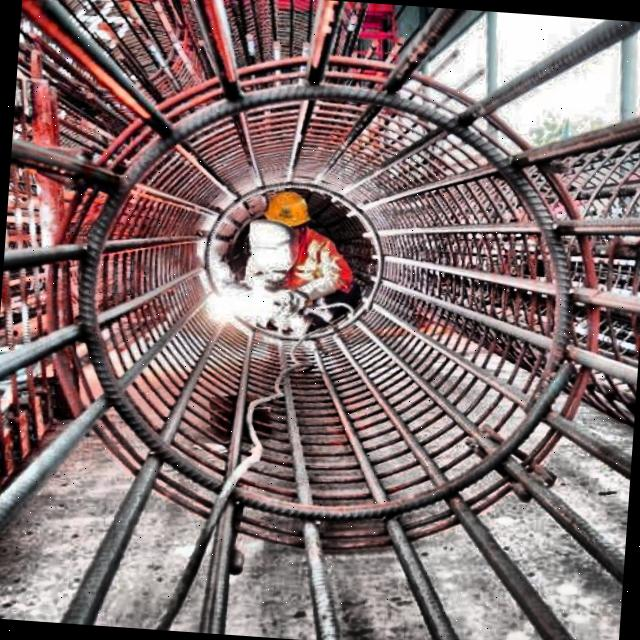helmet: (256, 188, 318, 242)
